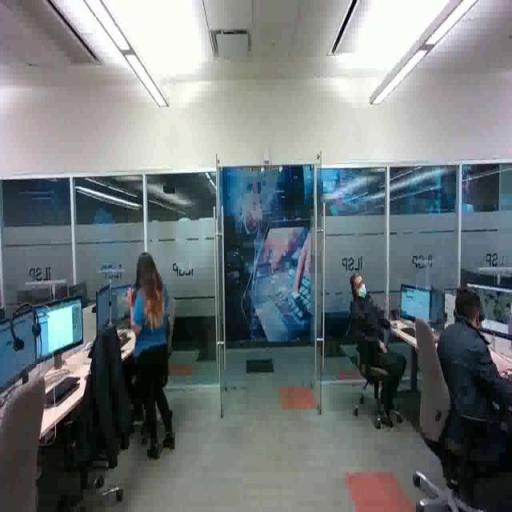person: (434, 287, 512, 499), (344, 268, 410, 440), (128, 249, 177, 467)
